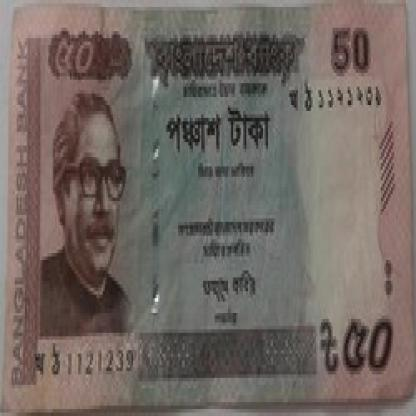Fifty taka: (308, 309, 396, 388), (45, 17, 103, 94)
